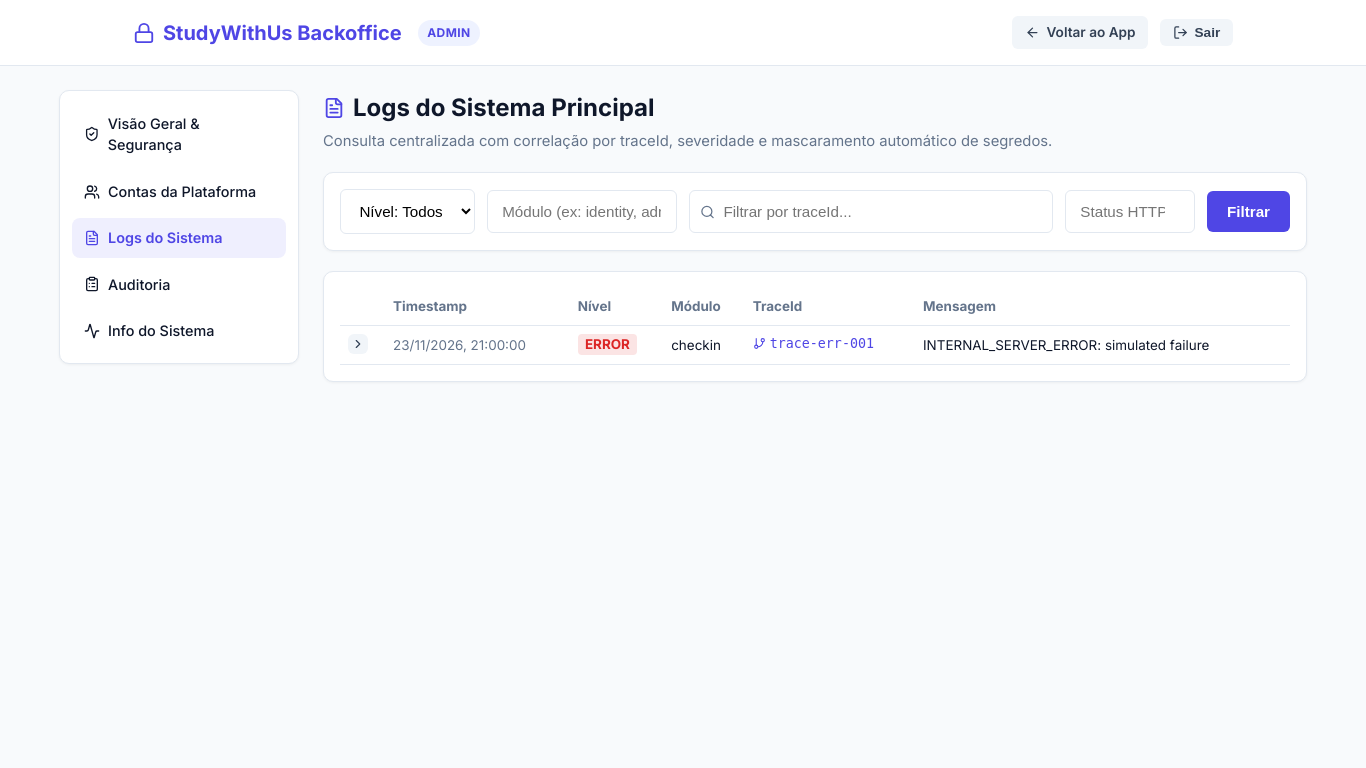
Test: AdminSystemLogsPage › renders logs, expands context, and opens traceId timeline
Expected: the text "INTERNAL_SERVER_ERROR: simulated failure" is shown, [915,325,1290,364]
Click the button named "Expandir contexto" at {"x": 358, "y": 344}, box [348,334,368,354]
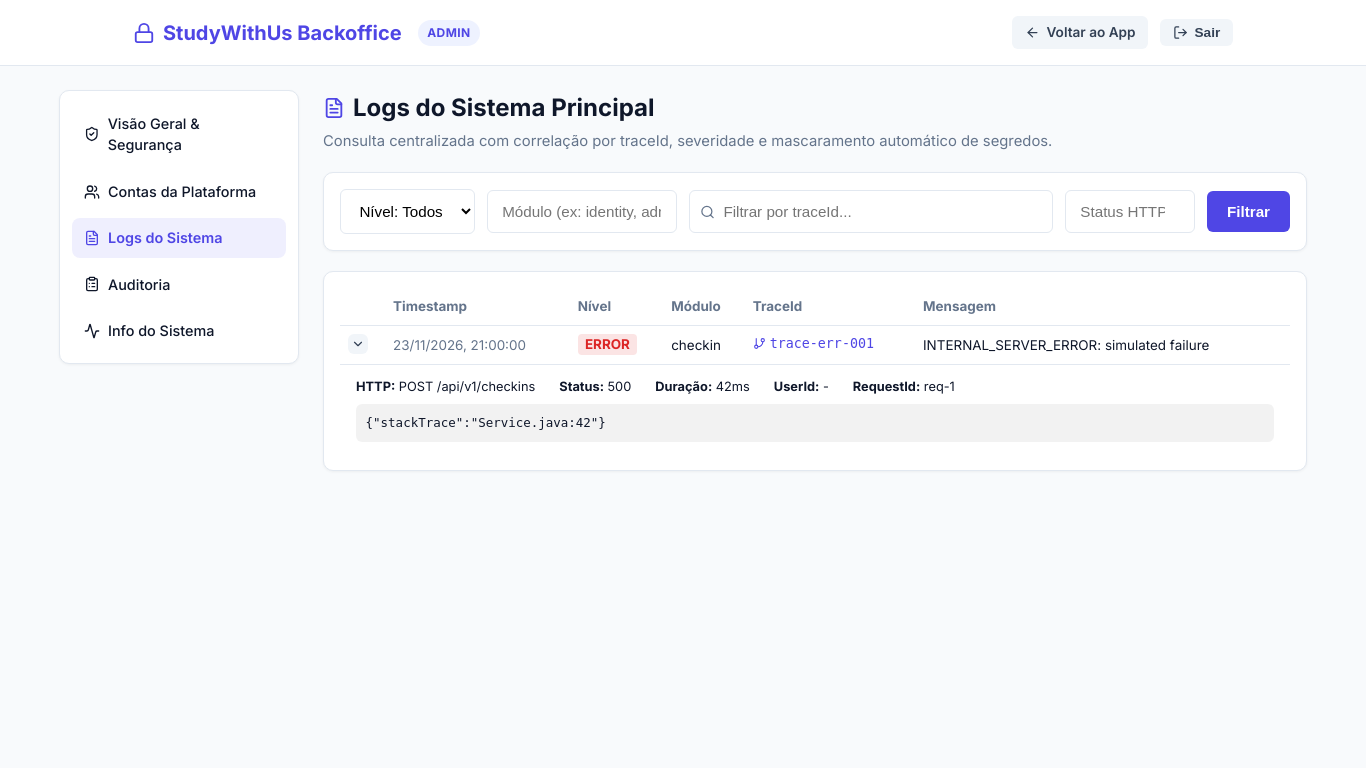
Expected: the text "{\"stackTrace\":\"Service.java:42\"}" is shown, [356,404,1274,442]
Click the button "trace-err-001" at {"x": 813, "y": 343}, box [753,336,874,351]
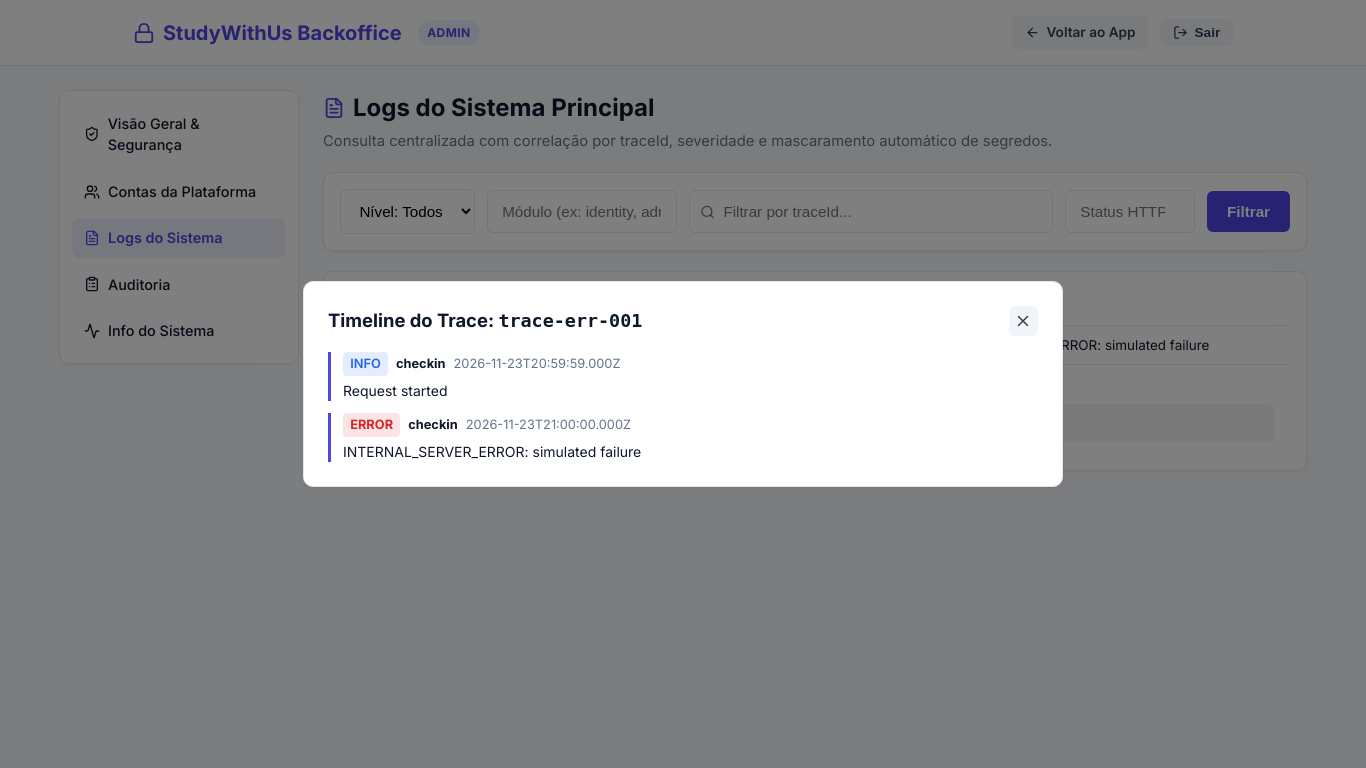
Expected: the heading "Timeline do Trace: trace-err-001" is shown, [328,307,642,335]
Expected: the text "Request started" is shown, [343,382,448,399]
